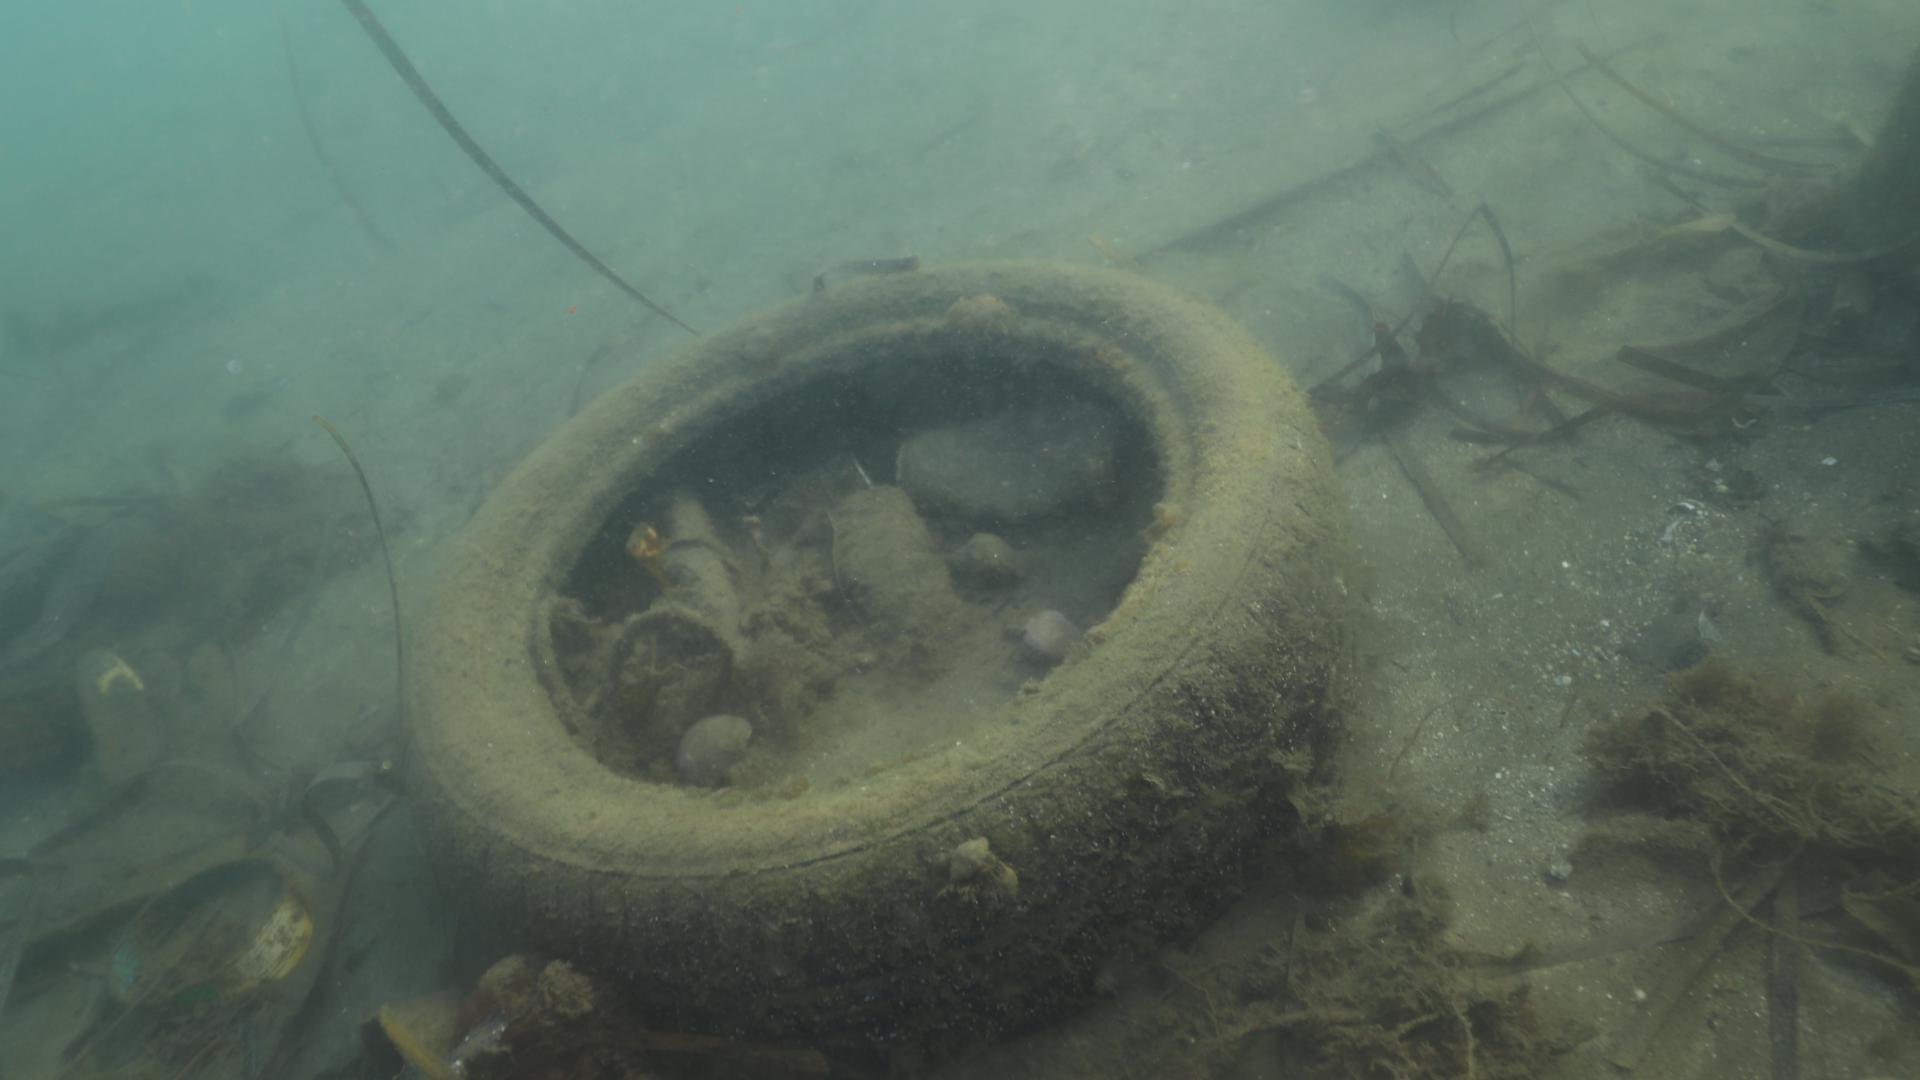tire: (404, 252, 1357, 1051)
